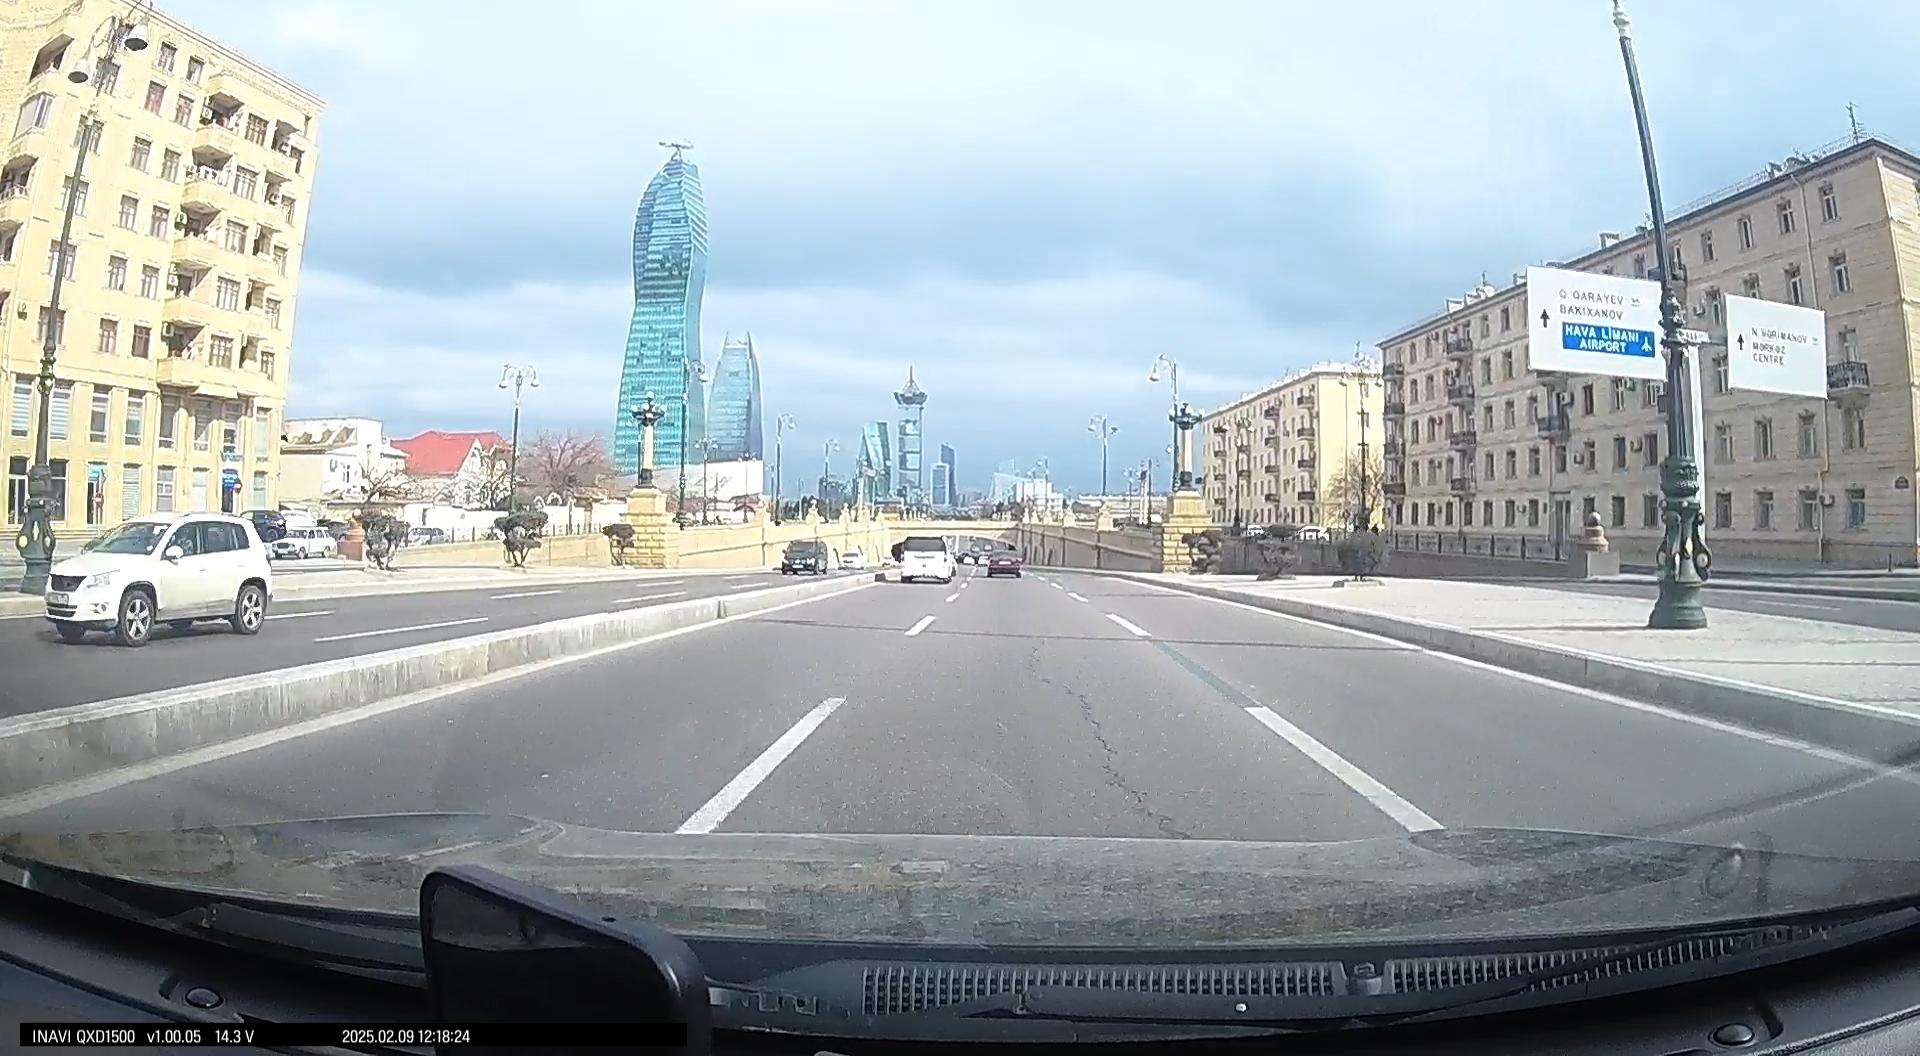banner: (1525, 265, 1671, 383), (1722, 292, 1830, 403)
